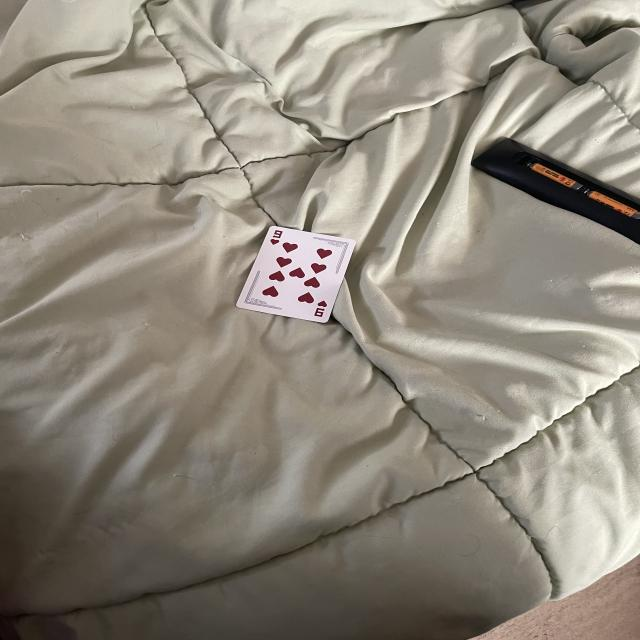9 of hearts: (235, 225, 357, 324)
